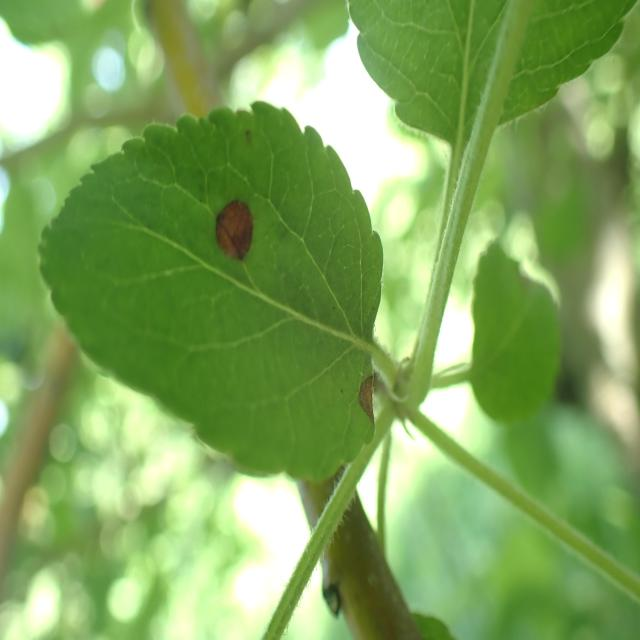frog-eye-leaf-spot: (38, 100, 385, 483)
